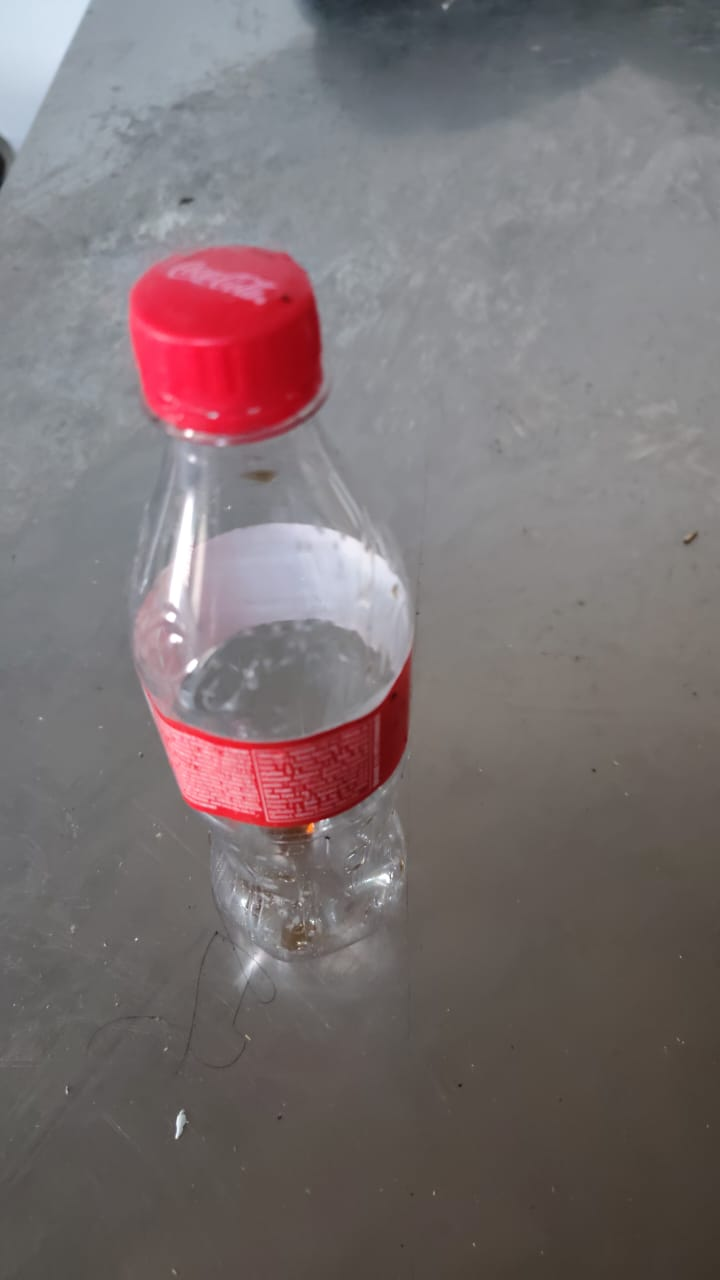Plastico: (130, 245, 416, 962)
